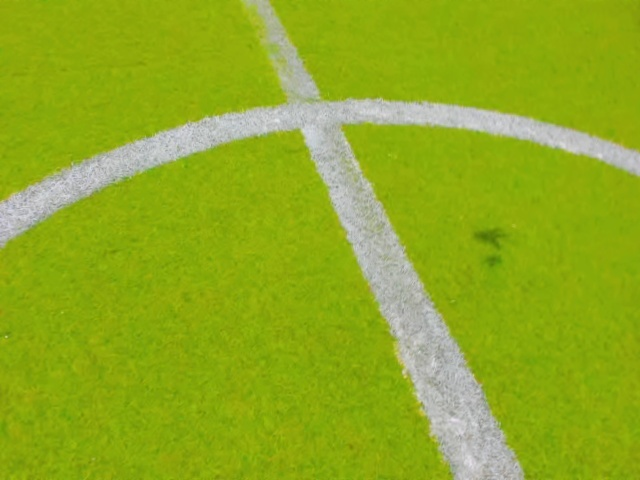x: (256, 82, 373, 155)
